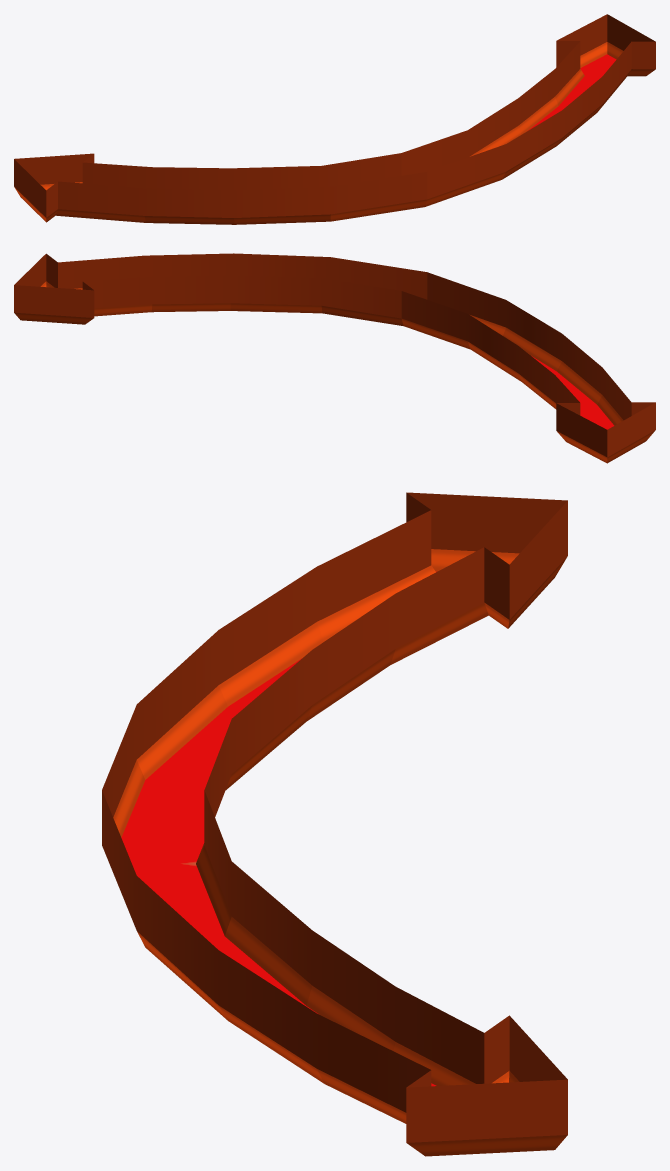
Rendered from arrow02.FBX.
3 views of the same model, one above another, from view 1: azimuth 30°, elevation 25°; view 2: azimuth 150°, elevation 25°; view 3: azimuth 270°, elevation 25° (orthographic). The views are drawn at different scales.
Parts seen in each view (by area): view 1: Box008; view 2: Box008; view 3: Box008.
Part boxes in pixels (x1,y1,x2,y2): Box008: (14, 14, 655, 224); Box008: (14, 253, 655, 463); Box008: (102, 492, 567, 1156).
Bounding box in the file's own units: 1735 × 100 × 574.
